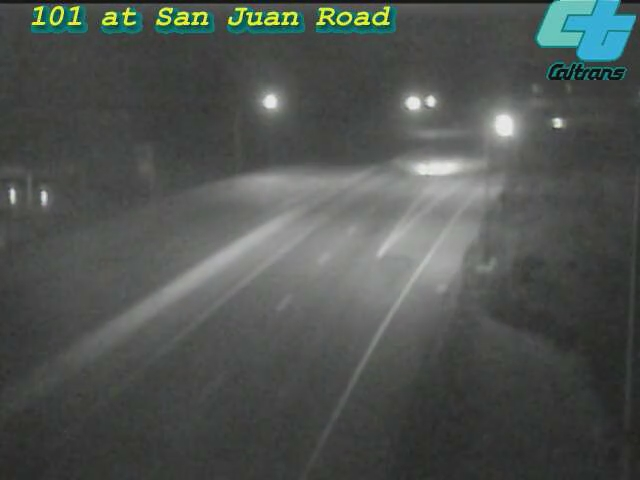vehicle: (379, 132, 459, 212), (527, 98, 577, 148), (484, 103, 534, 153)
